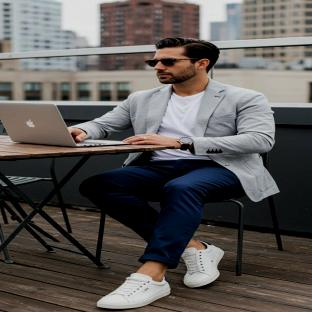Human: (68, 38, 279, 309)
